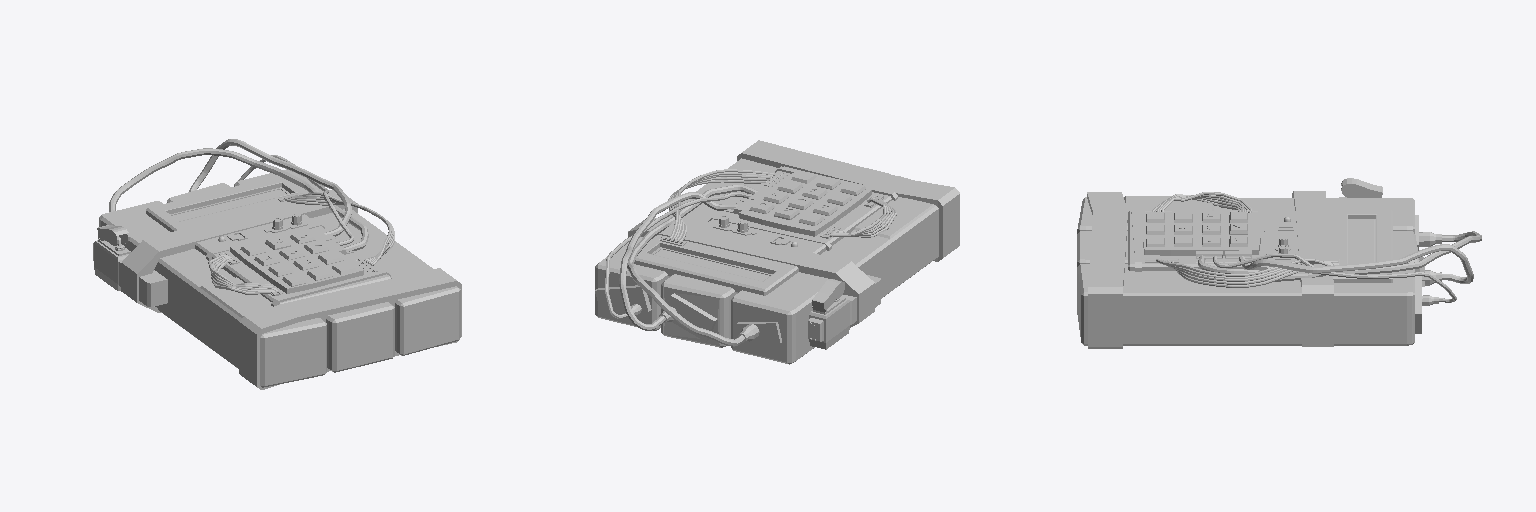
The model's file is cs_go bomb.obj.
3 renders of one model, left to right at view 1: azimuth 30°, elevation 25°; view 2: azimuth 150°, elevation 25°; view 3: azimuth 270°, elevation 25°, orthographic.
Parts seen in each view (by area): view 1: Plane_Plane.001, Plane.003_Plane.004, Plane.001_Plane.002, Cube.001_Cube.011, Plane.004_Plane.007, Plane.010_Plane.021, Plane.002_Plane, Plane.011_Plane.023; view 2: Plane_Plane.001, Plane.001_Plane.002, Plane.003_Plane.004, Cube.001_Cube.011, Plane.002_Plane, Plane.004_Plane.007, Plane.010_Plane.021, Plane.011_Plane.023, Plane.012_Plane.024, Plane.005_Plane.010; view 3: Plane_Plane.001, Plane.003_Plane.004, Plane.001_Plane.002, Cube.001_Cube.011, Plane.002_Plane, Plane.011_Plane.023, Plane.010_Plane.021, Plane.012_Plane.024, Plane.005_Plane.010, Cylinder.002.
Boxes of the visible parts, x1=… form: Plane_Plane.001: x1=99, y1=169, x2=460, y2=387; Plane.003_Plane.004: x1=121, y1=190, x2=461, y2=389; Plane.001_Plane.002: x1=146, y1=176, x2=391, y2=304; Cube.001_Cube.011: x1=206, y1=191, x2=390, y2=306; Plane.004_Plane.007: x1=93, y1=237, x2=167, y2=306; Plane.010_Plane.021: x1=109, y1=148, x2=368, y2=251; Plane.002_Plane: x1=208, y1=192, x2=394, y2=294; Plane.011_Plane.023: x1=189, y1=139, x2=351, y2=236; Plane_Plane.001: x1=595, y1=158, x2=938, y2=364; Plane.001_Plane.002: x1=634, y1=166, x2=891, y2=295; Plane.003_Plane.004: x1=628, y1=140, x2=959, y2=327; Cube.001_Cube.011: x1=659, y1=166, x2=897, y2=250; Plane.002_Plane: x1=668, y1=169, x2=896, y2=240; Plane.004_Plane.007: x1=808, y1=275, x2=880, y2=349; Plane.010_Plane.021: x1=627, y1=185, x2=757, y2=346; Plane.011_Plane.023: x1=619, y1=192, x2=737, y2=330; Plane.012_Plane.024: x1=605, y1=193, x2=750, y2=318; Plane.005_Plane.010: x1=812, y1=279, x2=844, y2=312; Plane_Plane.001: x1=1077, y1=196, x2=1424, y2=345; Plane.003_Plane.004: x1=1087, y1=191, x2=1333, y2=348; Plane.001_Plane.002: x1=1128, y1=210, x2=1392, y2=282; Cube.001_Cube.011: x1=1131, y1=208, x2=1345, y2=271; Plane.002_Plane: x1=1152, y1=192, x2=1338, y2=287; Plane.011_Plane.023: x1=1239, y1=244, x2=1473, y2=283; Plane.010_Plane.021: x1=1198, y1=231, x2=1481, y2=281; Plane.012_Plane.024: x1=1213, y1=253, x2=1456, y2=302; Plane.005_Plane.010: x1=1341, y1=178, x2=1382, y2=197; Cylinder.002: x1=1419, y1=232, x2=1441, y2=305.
Bounding box in the file's own units: 5.17 × 1.83 × 8.05.